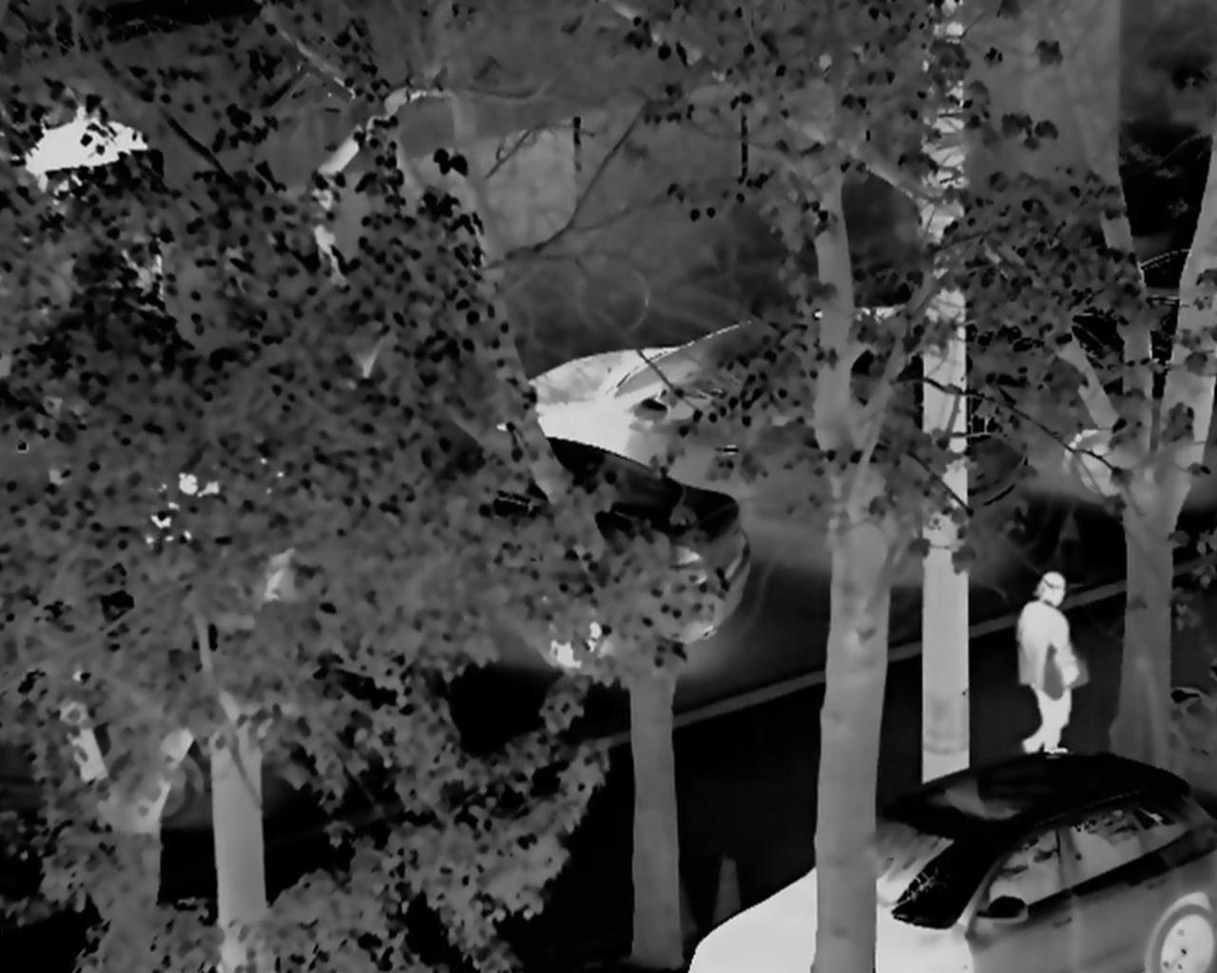person: (1011, 566, 1085, 754)
